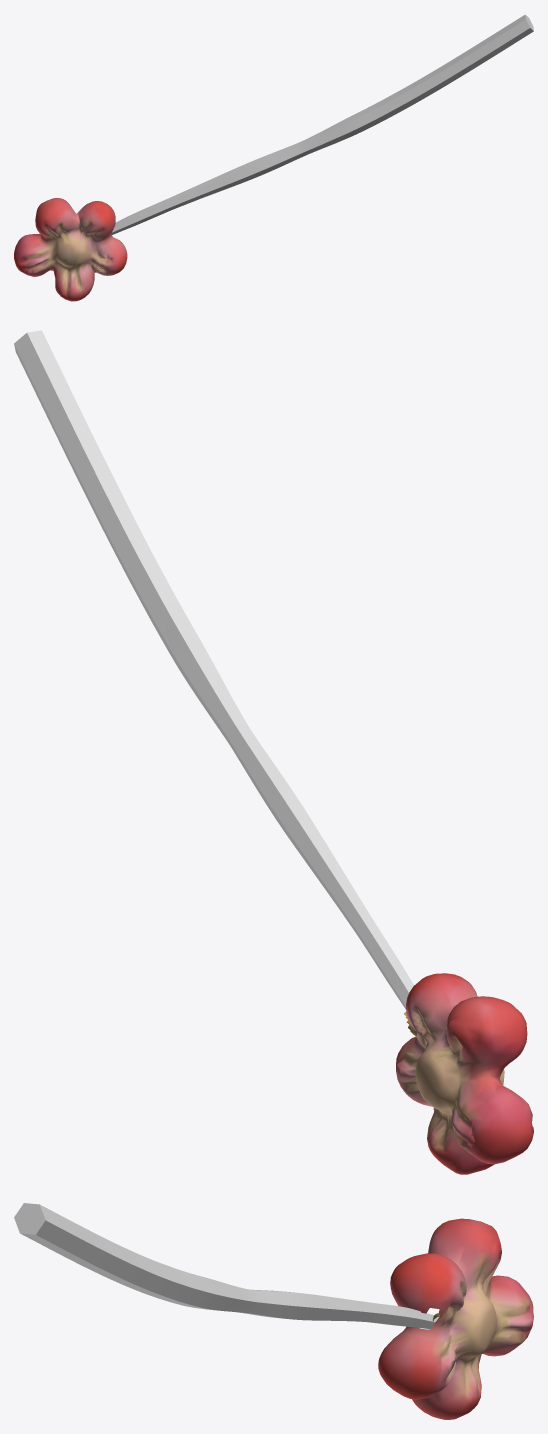
3 renders of one model, top to bottom at view 1: azimuth 30°, elevation 25°; view 2: azimuth 150°, elevation 25°; view 3: azimuth 270°, elevation 25°, orthographic. The views are drawn at different scales.
Parts seen in each view (by area): view 1: LOD 2_4441588532611241159_923a94d9283586042bf341a57634d57c; view 2: LOD 2_4441588532611241159_923a94d9283586042bf341a57634d57c; view 3: LOD 2_4441588532611241159_923a94d9283586042bf341a57634d57c.
Part boxes in pixels (x1=…): LOD 2_4441588532611241159_923a94d9283586042bf341a57634d57c: x1=14, y1=14, x2=533, y2=301; LOD 2_4441588532611241159_923a94d9283586042bf341a57634d57c: x1=14, y1=330, x2=533, y2=1174; LOD 2_4441588532611241159_923a94d9283586042bf341a57634d57c: x1=14, y1=1203, x2=533, y2=1419.
Size of the model in its own units: 1.5 by 1.01 by 0.9113.
